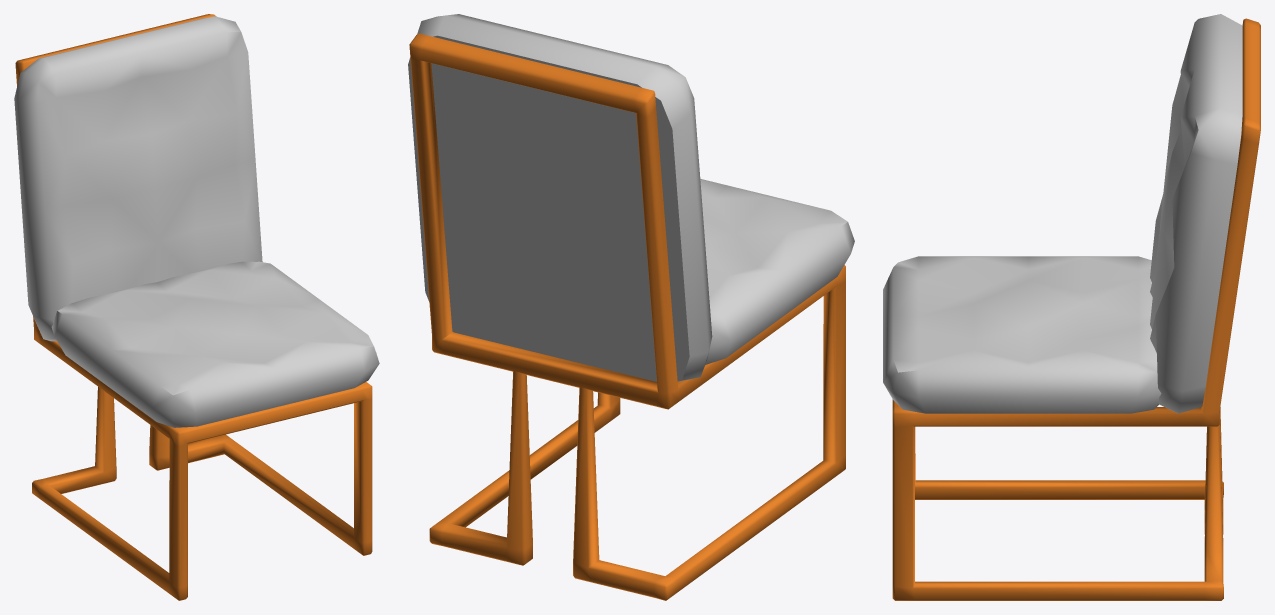
Rendered from Chair-6.fbx.
The picture shows the model from 3 angles, left to right: view 1: azimuth 30°, elevation 25°; view 2: azimuth 150°, elevation 25°; view 3: azimuth 270°, elevation 25°; orthographic projection. The views are drawn at different scales.
Parts seen in each view (by area): view 1: Chair-6; view 2: Chair-6; view 3: Chair-6.
Boxes of the visible parts, x1,y1,x2,y2 form: Chair-6: [14, 14, 379, 600]; Chair-6: [408, 14, 854, 600]; Chair-6: [883, 14, 1260, 600].
Bounding box in the file's own units: 0.5051 × 0.9253 × 0.6498.
